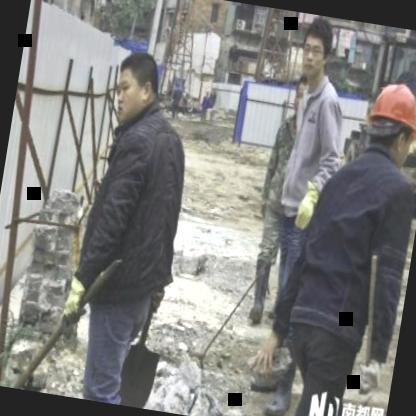head: (108, 43, 170, 134), (292, 13, 338, 86), (282, 68, 311, 118)
helmet: (354, 71, 416, 174)
